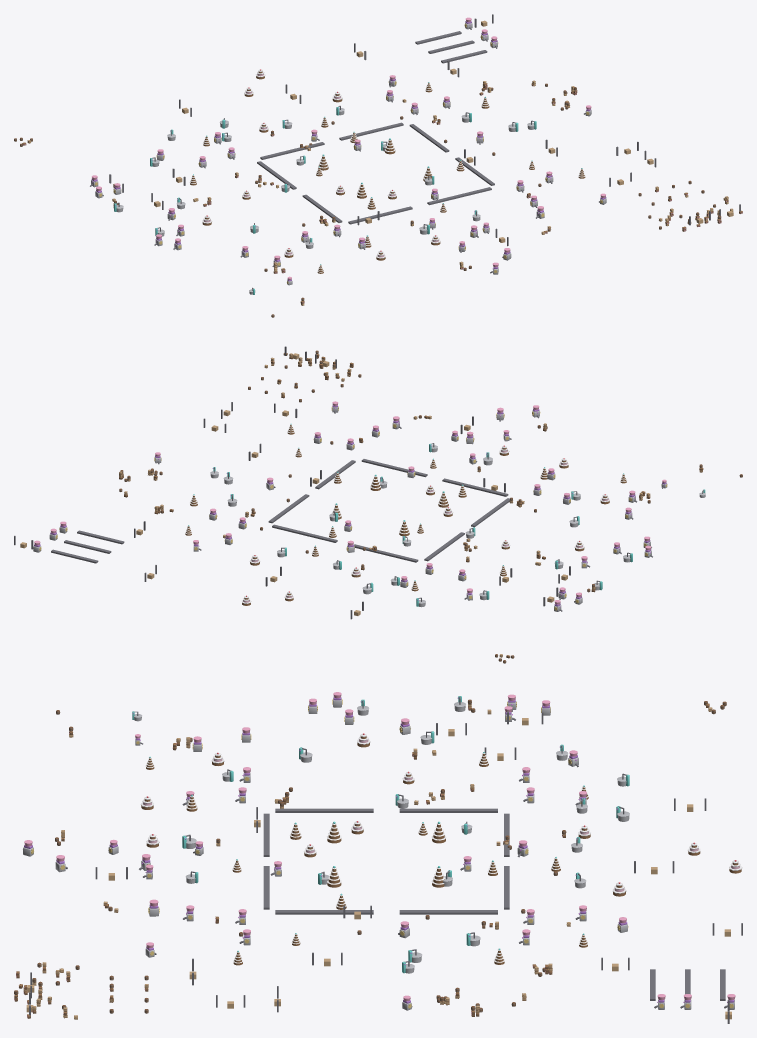
Rendered from ChocolateFactory_GameplayProps.fbx.
3 renders of one model, top to bottom at view 1: azimuth 30°, elevation 25°; view 2: azimuth 150°, elevation 25°; view 3: azimuth 270°, elevation 25°, orthographic. The views are drawn at different scales.
Size of the model in its own units: 348 by 10.63 by 334.
